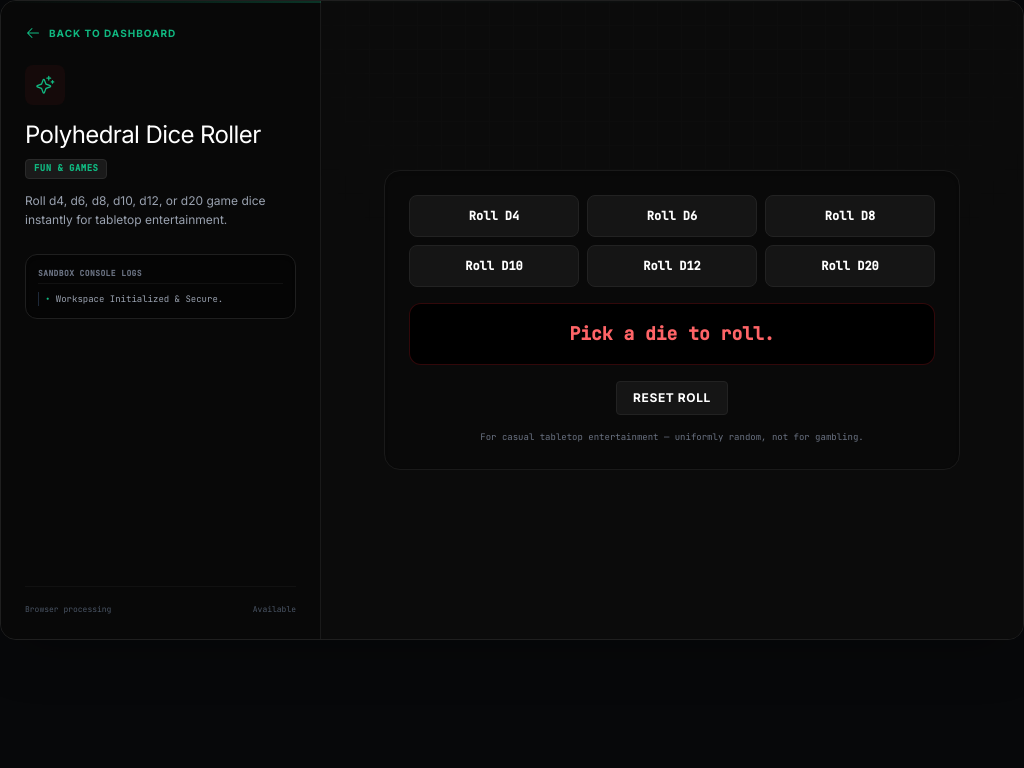
P1-B3 dice roller workspace (GenericUtilityWorkspace) › dice-roller rolls within the selected die range
Click the button "Roll D6" at (672, 216), box [587, 195, 757, 237]
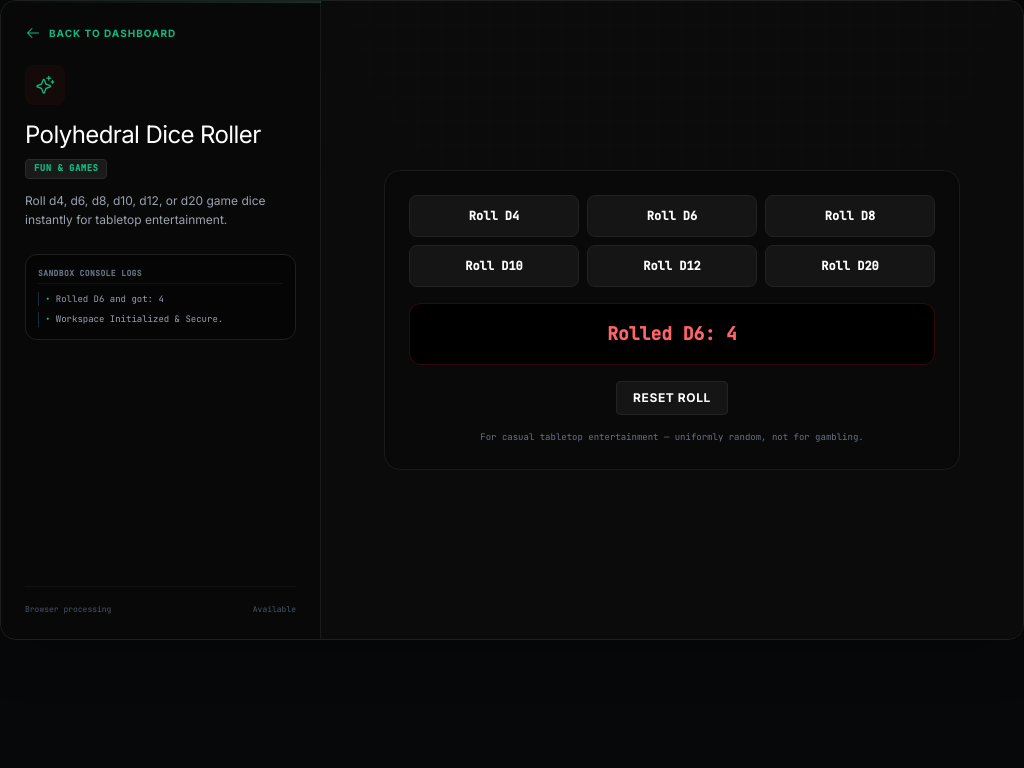
Check: the text "Rolled D6: 4" is shown, box [607, 322, 737, 345]
Click the button "Roll D20" at (850, 266), box [765, 245, 935, 287]
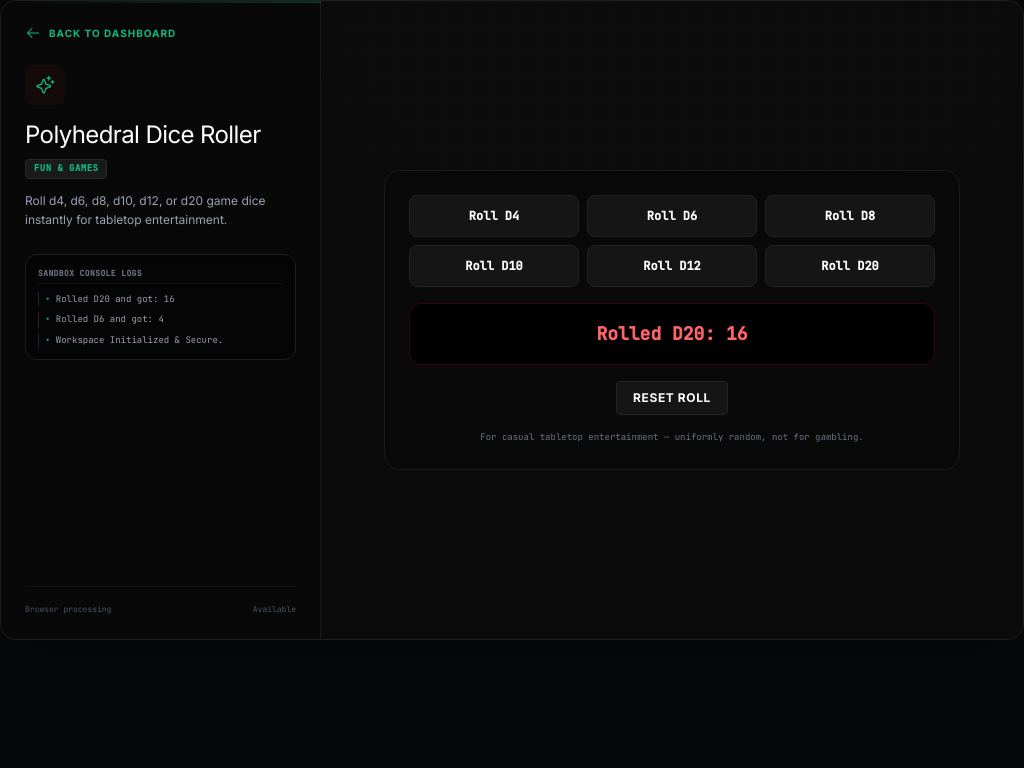
Check: the text "Rolled D20: 16" is shown, box [596, 322, 748, 345]
